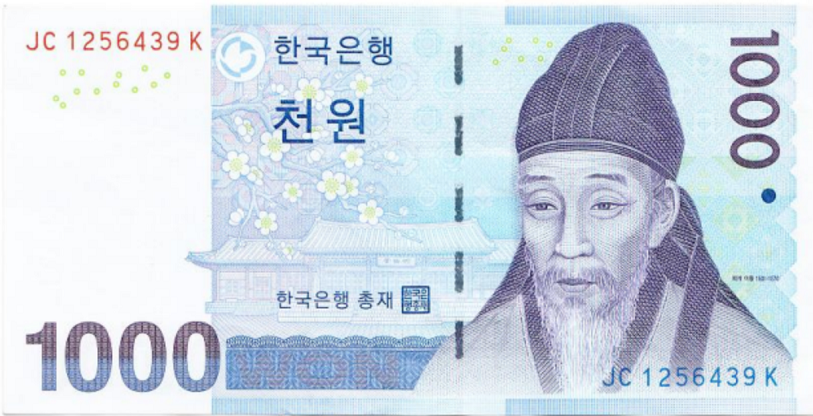1000won: (1, 3, 813, 411)
